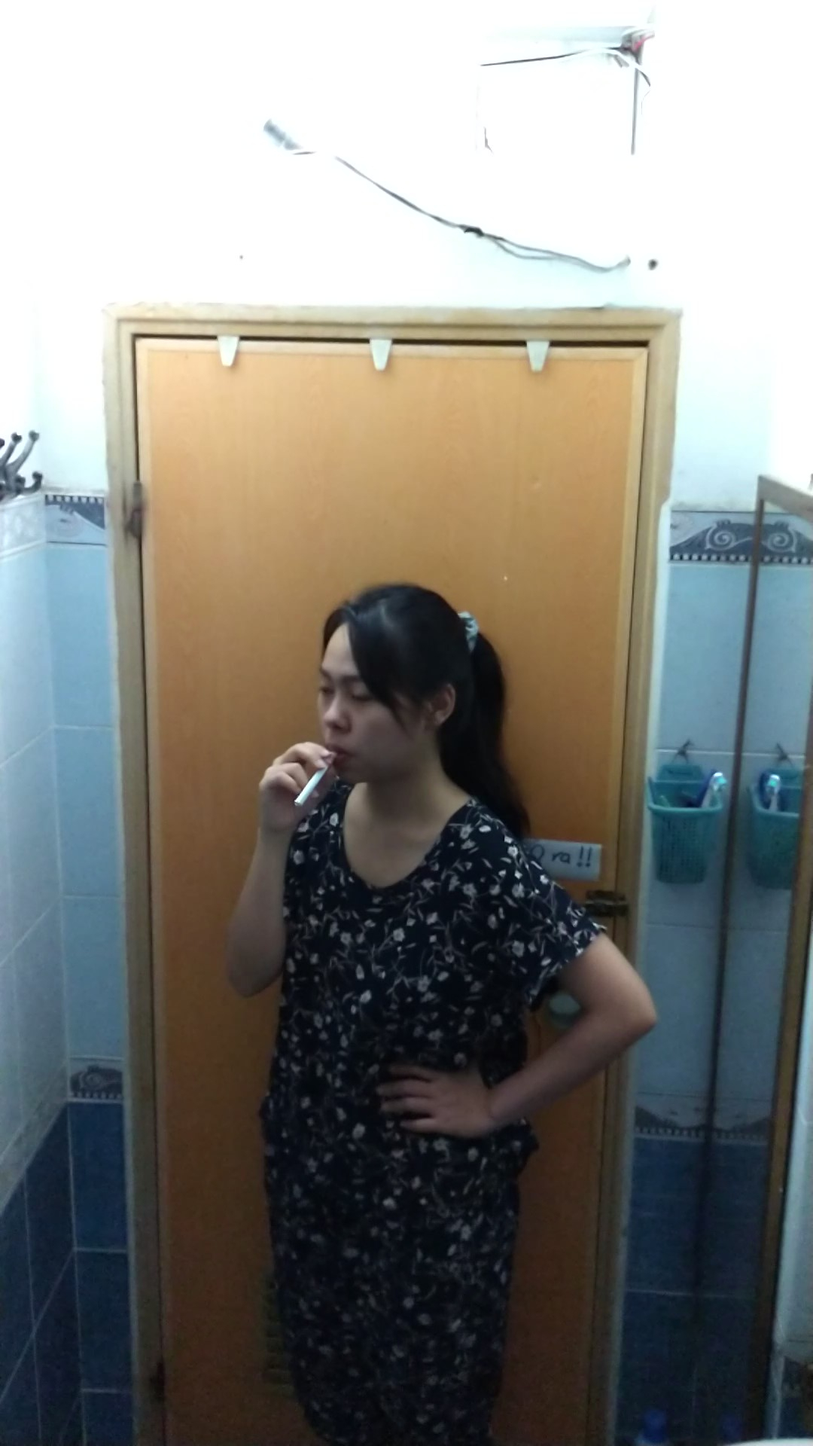cigarette: (288, 768, 326, 813)
person: (218, 572, 658, 1446)
